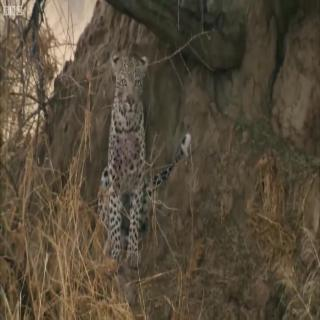Leopard: (82, 54, 180, 302)
